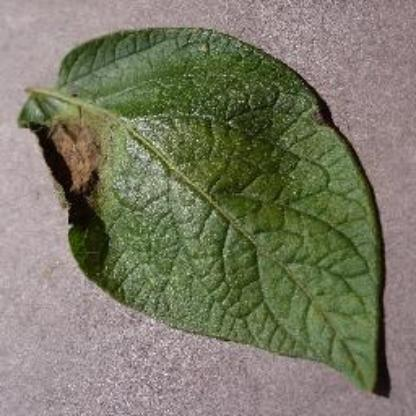Late-Blight: (15, 20, 404, 406)
